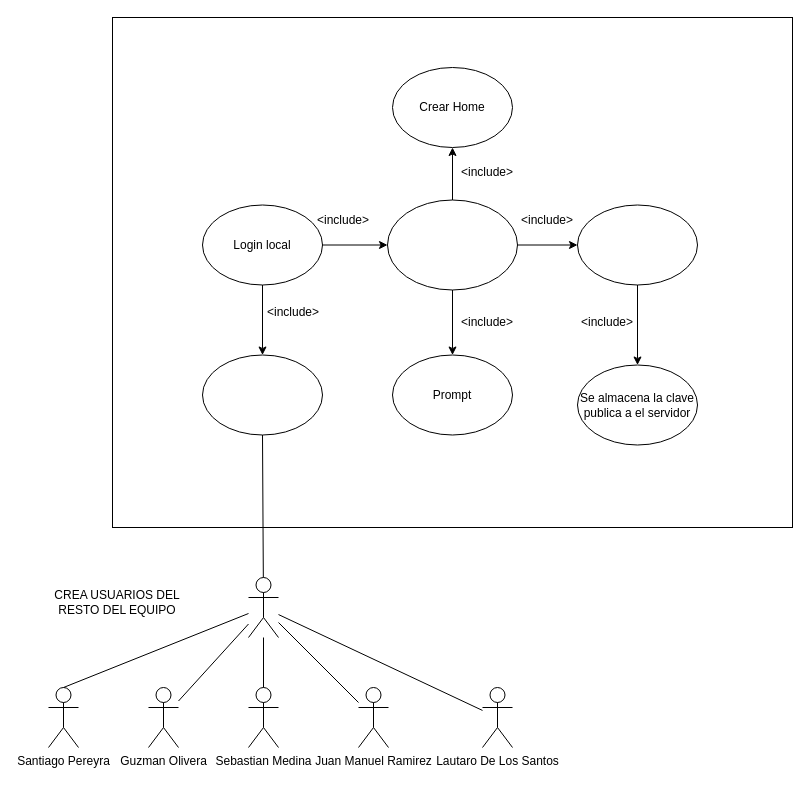
This 810x801 diagram has some shape labels left out. Here are the shapes that lost their labels. From the top down, the box of each, then its label:
(386, 199, 518, 290): Crear Usuario (Usuario y contraseña)
(576, 204, 698, 285): Genera ssh llave (ssh-keygen)
(202, 354, 322, 435): Login SSH Puerto:22
(248, 576, 278, 638): Joaquin Villa
